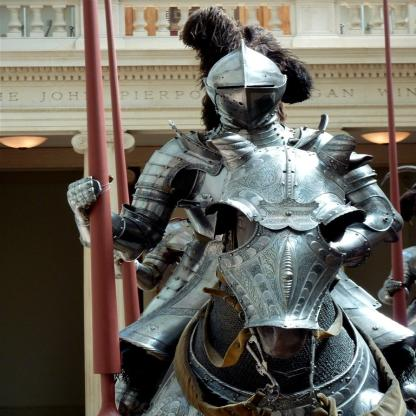Helmet: (199, 44, 303, 126)
